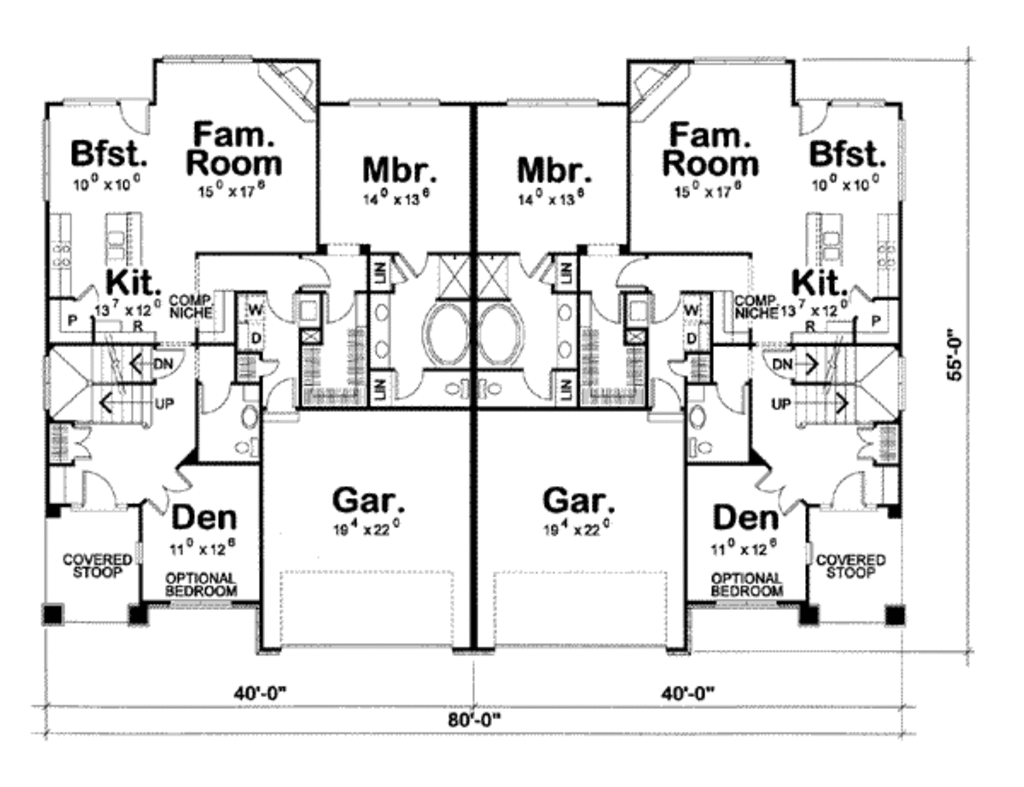door: (133, 456, 192, 518), (756, 467, 809, 520), (62, 464, 118, 512), (258, 373, 303, 425), (604, 247, 650, 291), (793, 93, 833, 143), (649, 372, 684, 427), (757, 341, 798, 384), (710, 378, 753, 418), (150, 339, 188, 384), (508, 366, 555, 402), (832, 467, 868, 514), (856, 419, 890, 467), (115, 96, 152, 139), (297, 250, 335, 291), (198, 377, 236, 417), (318, 287, 355, 325), (263, 292, 300, 330), (389, 366, 427, 402), (66, 421, 100, 459), (649, 289, 683, 327), (513, 243, 548, 279), (62, 278, 105, 306), (584, 295, 616, 327), (382, 256, 410, 290), (402, 247, 430, 281), (253, 352, 284, 378), (670, 350, 690, 380)
large_sink: (221, 430, 268, 464), (432, 371, 474, 408), (679, 432, 718, 462), (476, 372, 506, 407)
small_sink: (557, 286, 579, 369), (370, 289, 392, 370), (687, 391, 712, 435), (231, 402, 262, 431)
stairs: (48, 343, 155, 424), (795, 349, 901, 419)
twin_sink: (99, 221, 131, 267), (816, 221, 844, 264)
window: (36, 116, 58, 204), (336, 90, 441, 108), (499, 90, 602, 108), (892, 114, 912, 202), (711, 597, 785, 613), (165, 599, 240, 610)
